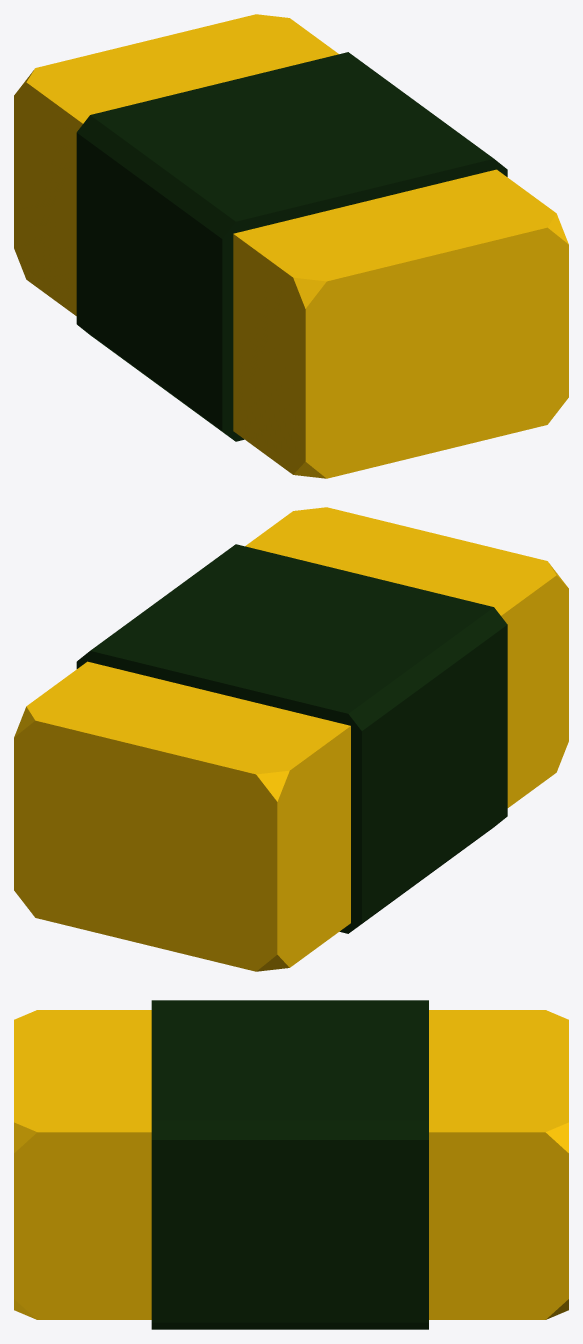
File: Carré de foin.FBX
The picture shows the model from 3 angles, top to bottom: view 1: azimuth 30°, elevation 25°; view 2: azimuth 150°, elevation 25°; view 3: azimuth 270°, elevation 25°; orthographic projection. The views are drawn at different scales.
Parts seen in each view (by area): view 1: Carré de foin; view 2: Carré de foin; view 3: Carré de foin.
Part boxes in pixels (left/top/right/bottom): Carré de foin: left=14, top=14, right=568, bottom=478; Carré de foin: left=14, top=507, right=568, bottom=971; Carré de foin: left=14, top=1000, right=568, bottom=1329.
Size of the model in its own units: 23.46 by 17.3 by 41.52.
